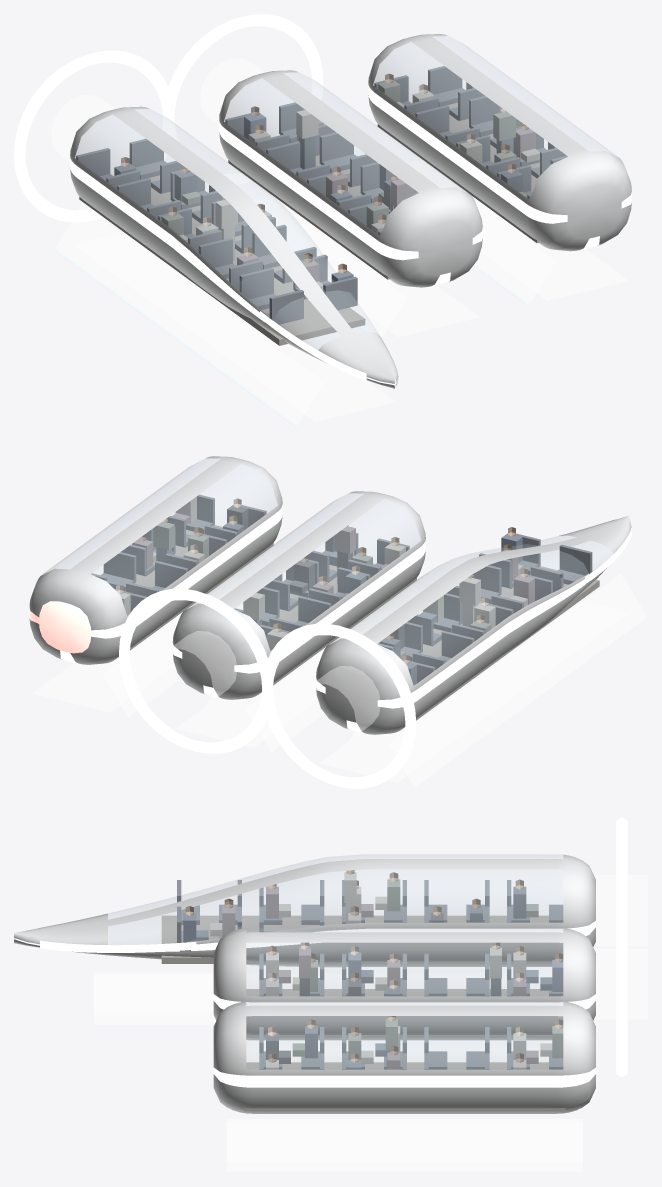
File: train-2127.glb
The picture shows the model from 3 angles, top to bottom: view 1: azimuth 30°, elevation 25°; view 2: azimuth 150°, elevation 25°; view 3: azimuth 270°, elevation 25°; orthographic projection. The views are drawn at different scales.
Parts seen in each view (by area): view 1: train_lead_parts, train_lead_shell, train_mid_shell, train_tail_shell, train_mid_parts, train_tail_parts; view 2: train_lead_parts, train_lead_shell, train_tail_shell, train_mid_shell, train_mid_parts, train_tail_parts; view 3: train_lead_shell, train_tail_shell, train_mid_shell, train_tail_parts, train_lead_parts, train_mid_parts.
Boxes of the visible parts, left/top/right/bottom form: train_lead_parts: left=14, top=50, right=395, bottom=426; train_lead_shell: left=70, top=106, right=398, bottom=388; train_mid_shell: left=219, top=70, right=482, bottom=287; train_tail_shell: left=368, top=34, right=631, bottom=251; train_mid_parts: left=168, top=14, right=479, bottom=338; train_tail_parts: left=374, top=66, right=628, bottom=306; train_lead_parts: left=262, top=527, right=647, bottom=788; train_lead_shell: left=316, top=515, right=631, bottom=734; train_tail_shell: left=29, top=456, right=282, bottom=664; train_mid_shell: left=172, top=491, right=425, bottom=699; train_mid_parts: left=119, top=525, right=422, bottom=753; train_tail_parts: left=32, top=494, right=285, bottom=717; train_lead_shell: left=14, top=854, right=595, bottom=967; train_tail_shell: left=213, top=1001, right=595, bottom=1113; train_mid_shell: left=213, top=928, right=595, bottom=1040; train_tail_parts: left=226, top=1016, right=582, bottom=1172; train_lead_parts: left=94, top=817, right=647, bottom=1025; train_mid_parts: left=246, top=891, right=647, bottom=1076.
Size of the model in its own units: 11.75 by 4.33 by 14.6.
